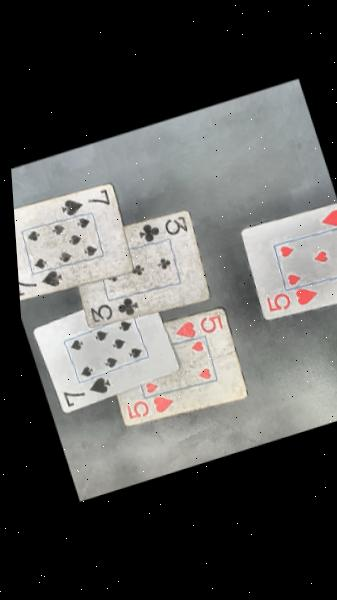3T: (128, 205, 195, 250), (77, 288, 144, 331)
5C: (252, 283, 325, 328), (109, 387, 180, 427), (166, 303, 230, 343), (310, 194, 337, 238)
7P: (49, 179, 117, 223), (50, 370, 115, 414), (18, 262, 71, 304)
